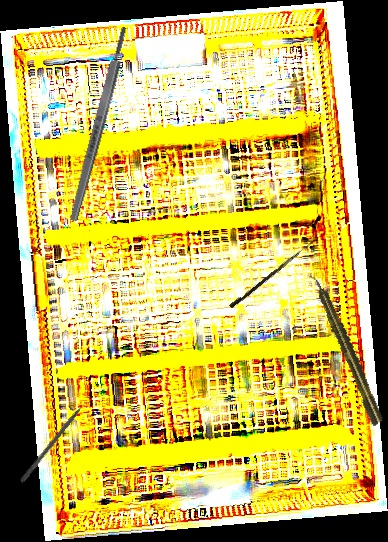Handpiece: (307, 269, 386, 429)
Hook Surgical: (229, 234, 318, 310)
Pusher: (19, 393, 94, 485)
Scalpel Handle: (67, 25, 131, 223)
